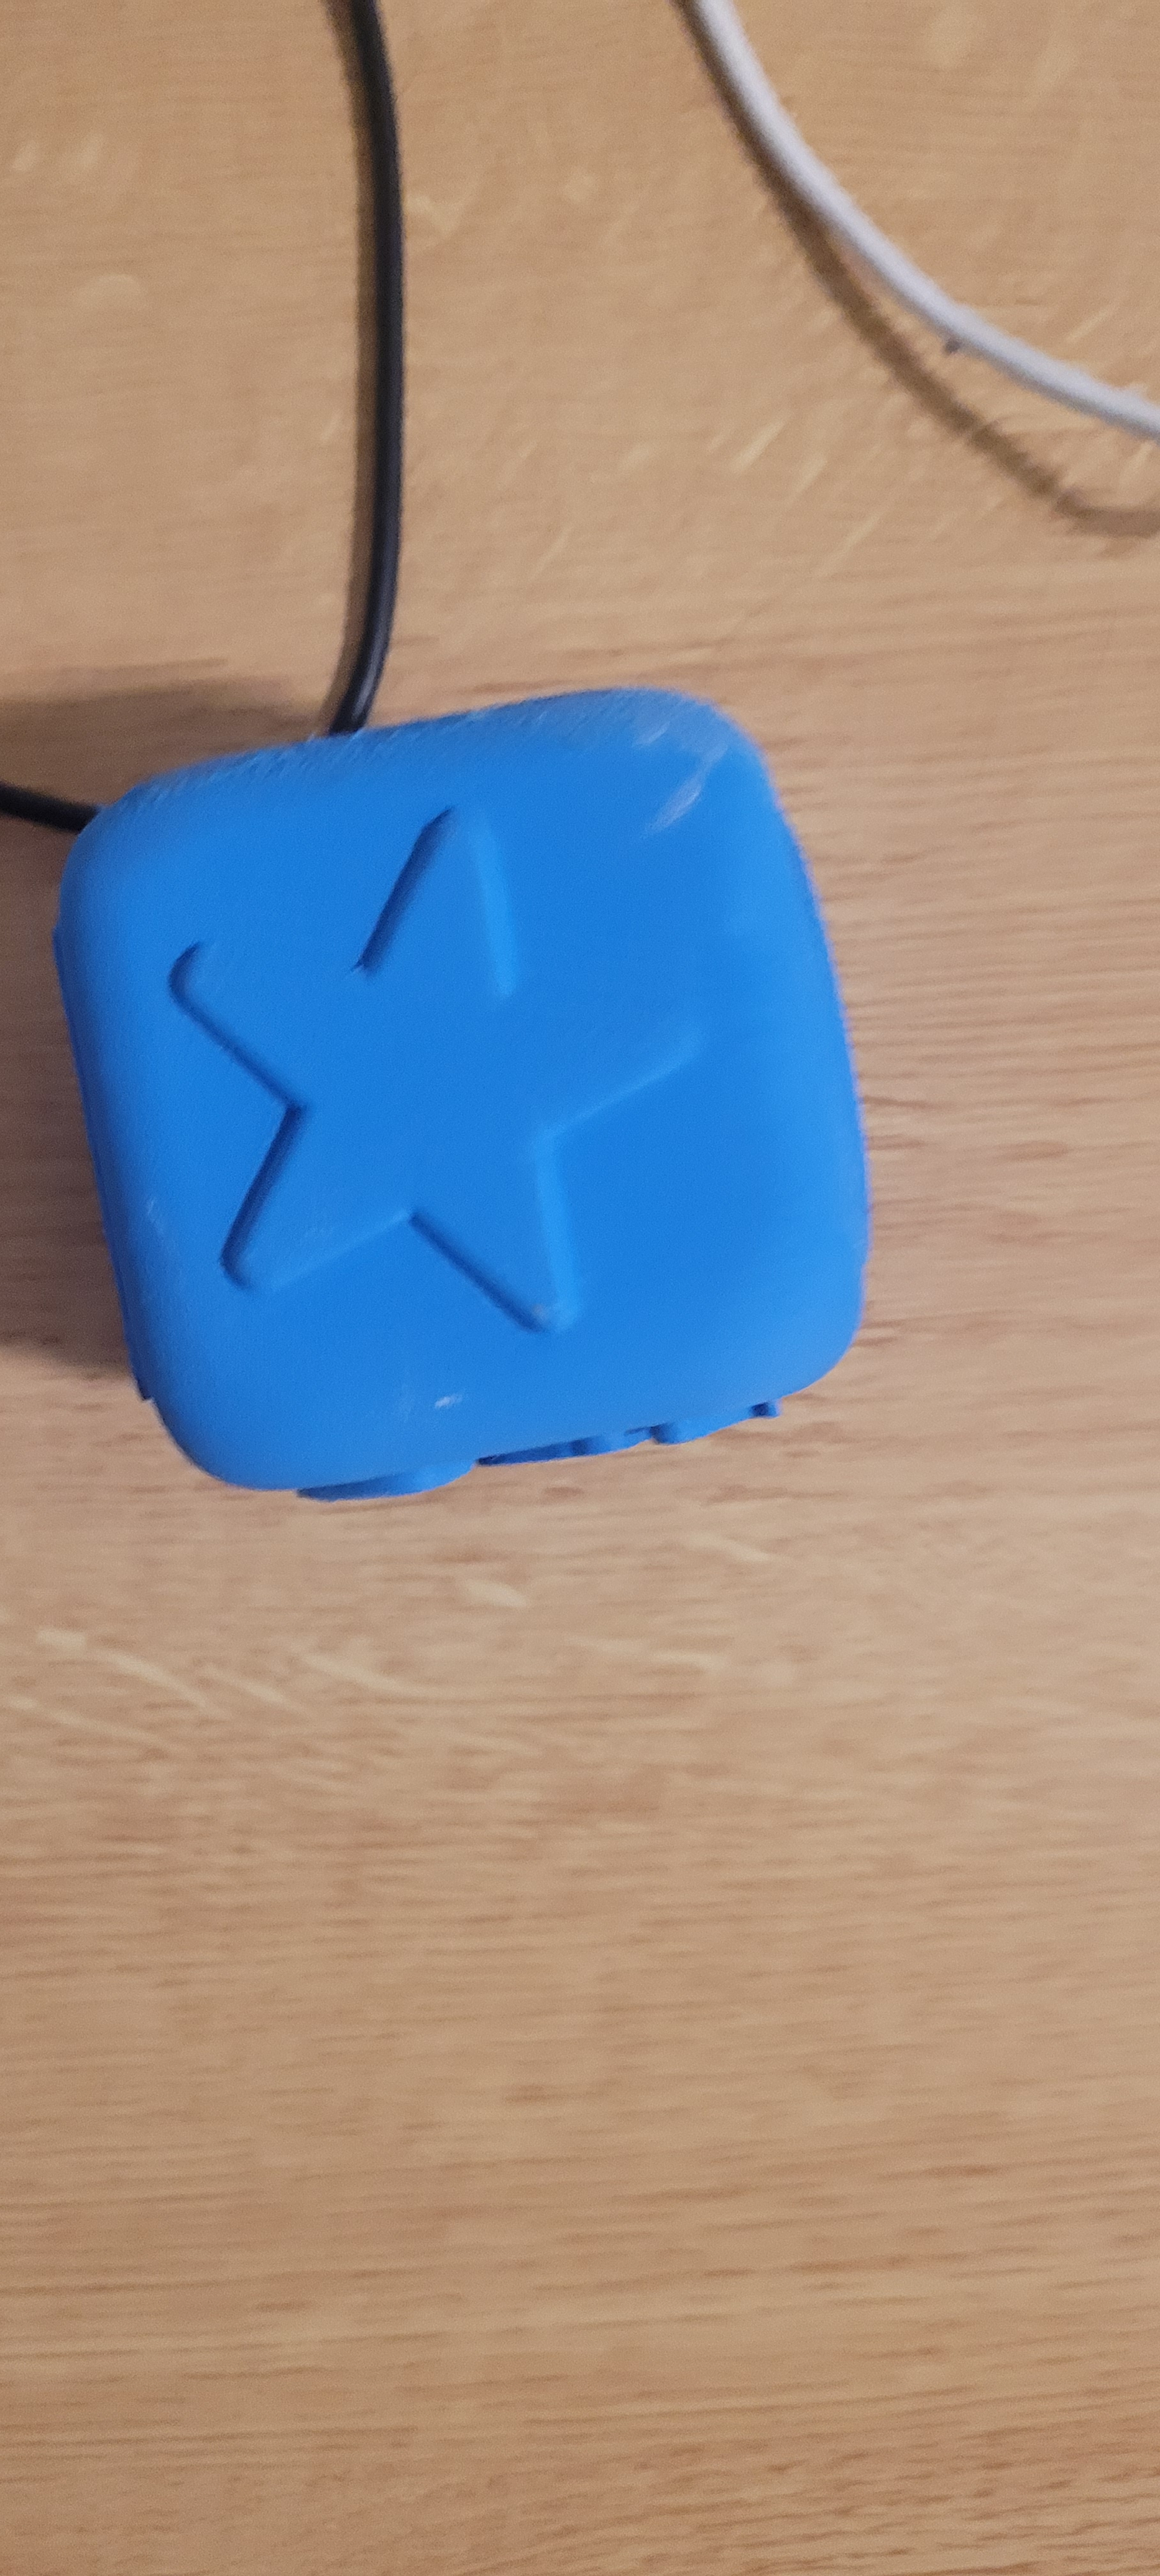Star: (79, 798, 738, 1387)
